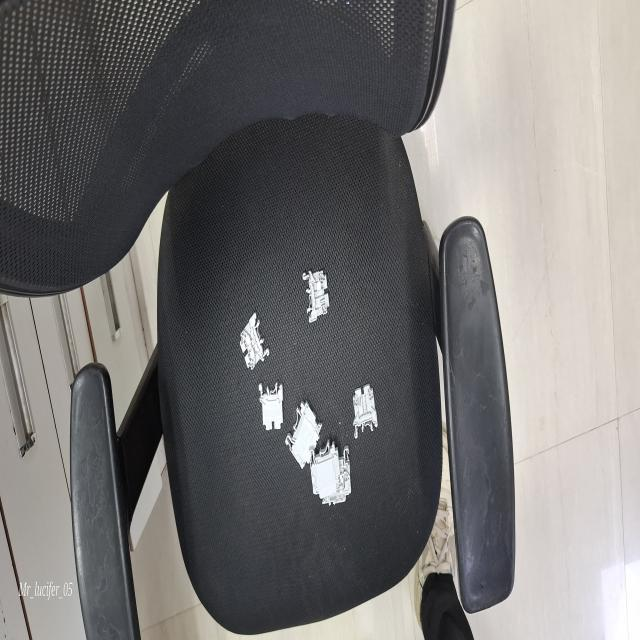Inverted: (253, 373, 286, 439)
Pass: (238, 306, 275, 380)
Reject: (345, 370, 383, 448), (302, 267, 332, 327)
